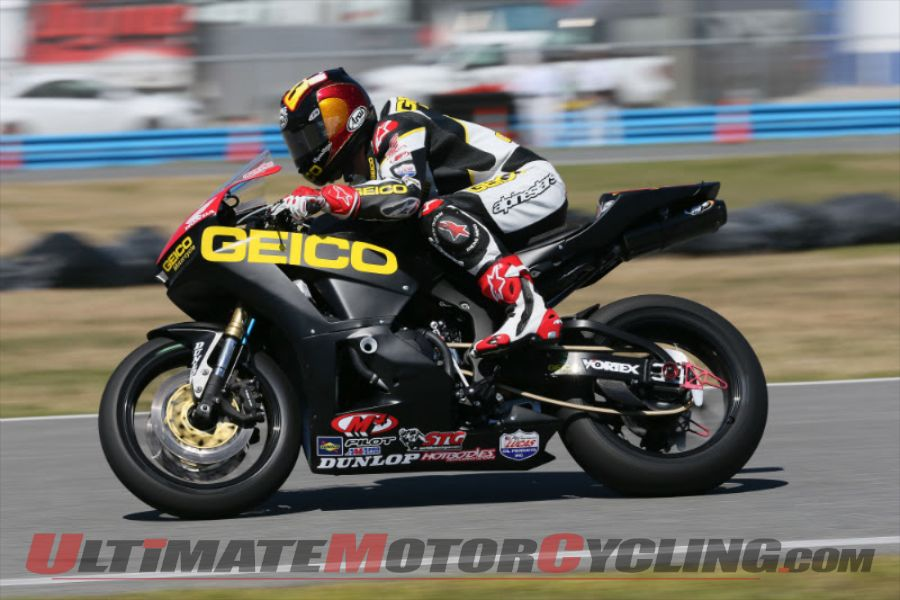Geico: (200, 218, 401, 282)
